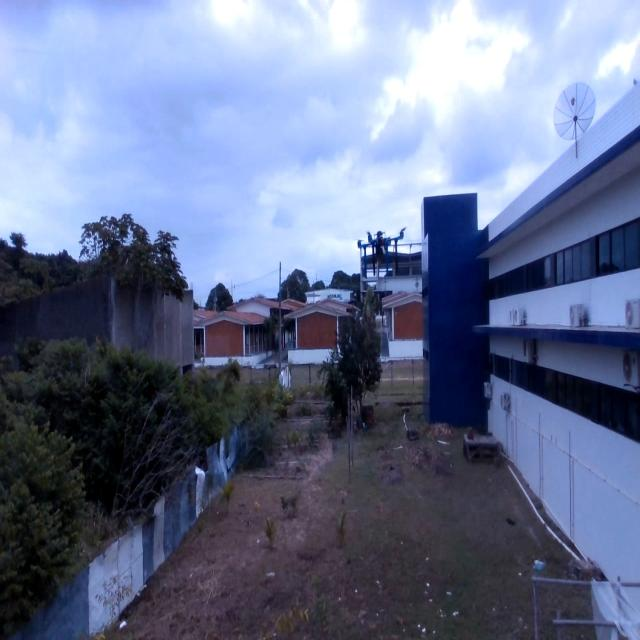-uav-: (348, 218, 409, 289)
